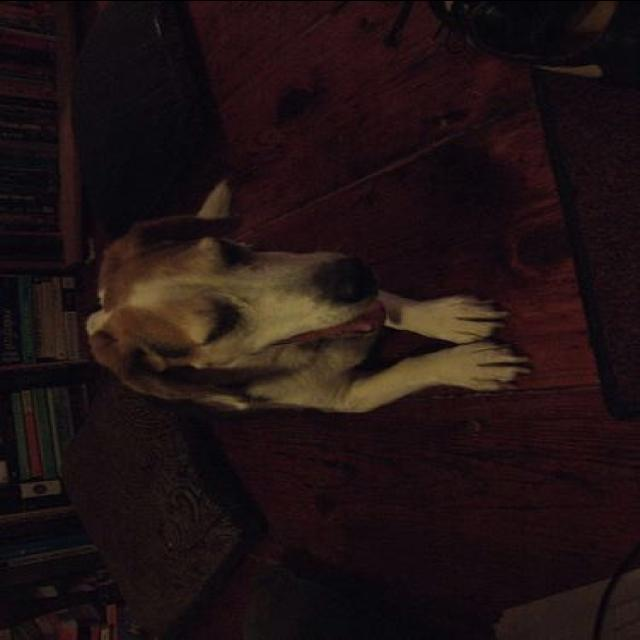beagle: (51, 168, 528, 440)
